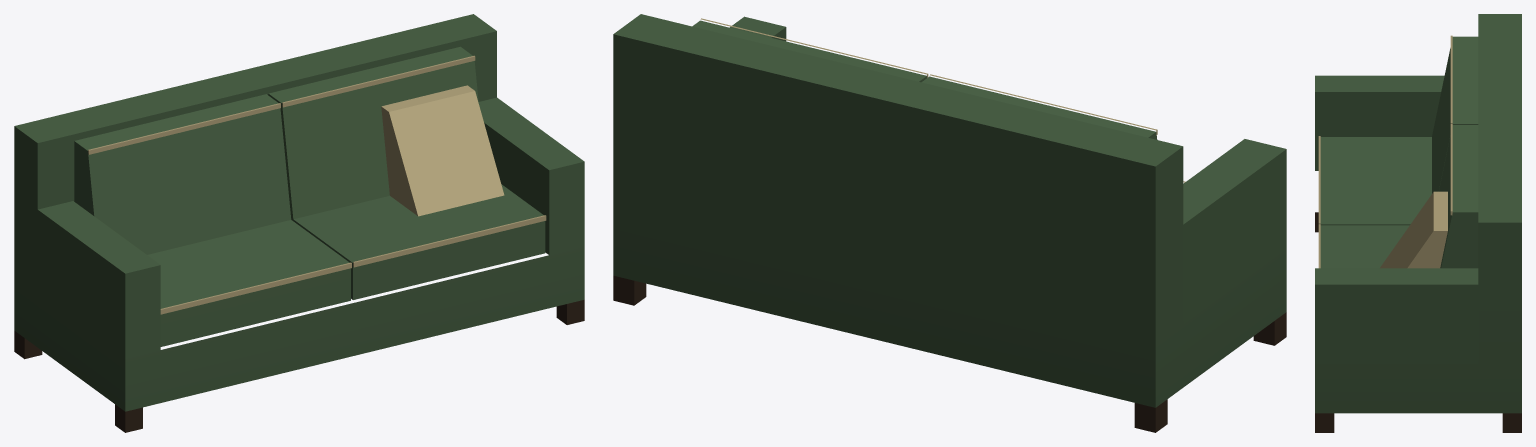
File: sofa.two_seat.green.glb
The picture shows the model from 3 angles, left to right: view 1: azimuth 30°, elevation 25°; view 2: azimuth 150°, elevation 25°; view 3: azimuth 270°, elevation 25°; orthographic projection. The views are drawn at different scales.
Parts seen in each view (by area): view 1: sofa_two_seat_green; view 2: sofa_two_seat_green; view 3: sofa_two_seat_green.
Part boxes in pixels (x1,y1,x2,y2): sofa_two_seat_green: [14, 14, 584, 432]; sofa_two_seat_green: [613, 14, 1286, 432]; sofa_two_seat_green: [1315, 14, 1521, 432].
Size of what is drawn, in the model's own units: 1.81 by 0.85 by 0.758.
